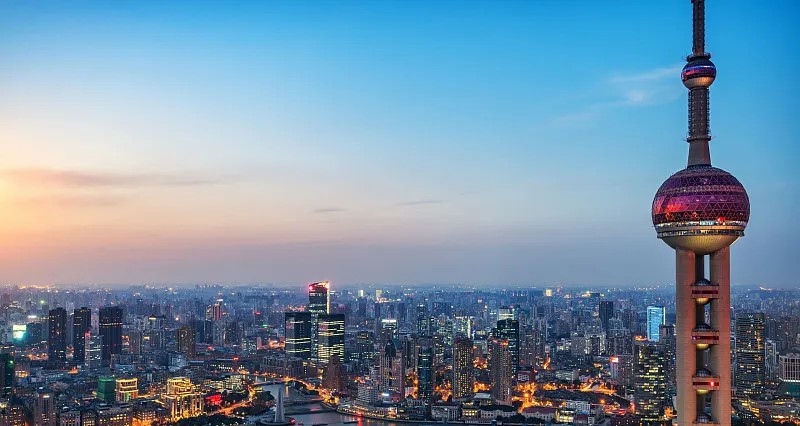Oriental: (651, 1, 750, 426)
